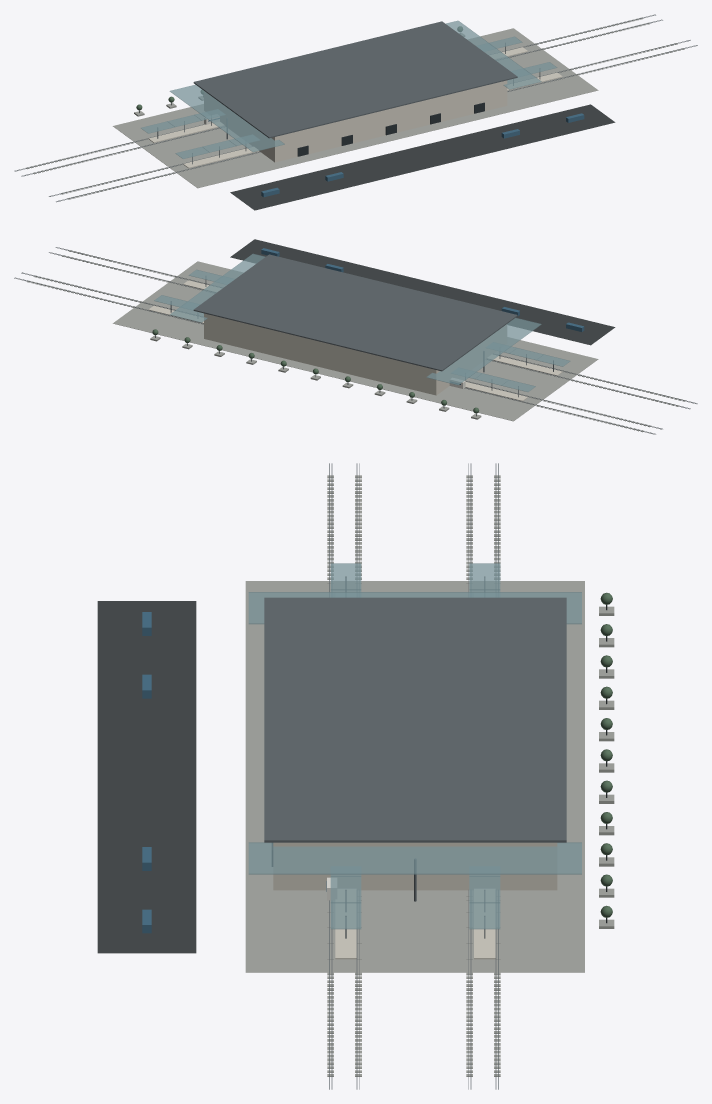
The picture shows the model from 3 angles, top to bottom: view 1: azimuth 30°, elevation 25°; view 2: azimuth 150°, elevation 25°; view 3: azimuth 270°, elevation 25°; orthographic projection. The views are drawn at different scales.
Parts seen in each view (by area): view 1: Grand Central High-Speed Rail: steel, Grand Central High-Speed Rail: concrete, Grand Central High-Speed Rail: road, Grand Central High-Speed Rail: stone, Grand Central High-Speed Rail: glass, Grand Central High-Speed Rail: dark, Grand Central High-Speed Rail: blue; view 2: Grand Central High-Speed Rail: steel, Grand Central High-Speed Rail: concrete, Grand Central High-Speed Rail: stone, Grand Central High-Speed Rail: road, Grand Central High-Speed Rail: glass, Grand Central High-Speed Rail: blue, Grand Central High-Speed Rail: green; view 3: Grand Central High-Speed Rail: steel, Grand Central High-Speed Rail: concrete, Grand Central High-Speed Rail: road, Grand Central High-Speed Rail: glass, Grand Central High-Speed Rail: stone, Grand Central High-Speed Rail: green, Grand Central High-Speed Rail: blue.
Boxes of the visible parts, left/top/right/bottom form: Grand Central High-Speed Rail: steel: left=14, top=14, right=697, bottom=202; Grand Central High-Speed Rail: concrete: left=26, top=17, right=684, bottom=199; Grand Central High-Speed Rail: road: left=230, top=104, right=615, bottom=210; Grand Central High-Speed Rail: stone: left=148, top=47, right=562, bottom=168; Grand Central High-Speed Rail: glass: left=141, top=20, right=557, bottom=158; Grand Central High-Speed Rail: dark: left=139, top=95, right=484, bottom=156; Grand Central High-Speed Rail: blue: left=208, top=113, right=584, bottom=197; Grand Central High-Speed Rail: steel: left=14, top=247, right=697, bottom=434; Grand Central High-Speed Rail: concrete: left=27, top=250, right=685, bottom=432; Grand Central High-Speed Rail: stone: left=148, top=280, right=562, bottom=401; Grand Central High-Speed Rail: road: left=230, top=239, right=615, bottom=345; Grand Central High-Speed Rail: glass: left=154, top=253, right=570, bottom=391; Grand Central High-Speed Rail: blue: left=261, top=248, right=584, bottom=384; Grand Central High-Speed Rail: green: left=152, top=329, right=479, bottom=413; Grand Central High-Speed Rail: steel: left=264, top=463, right=566, bottom=1089; Grand Central High-Speed Rail: concrete: left=245, top=475, right=614, bottom=1076; Grand Central High-Speed Rail: road: left=97, top=601, right=196, bottom=953; Grand Central High-Speed Rail: glass: left=248, top=563, right=581, bottom=929; Grand Central High-Speed Rail: stone: left=273, top=842, right=557, bottom=959; Grand Central High-Speed Rail: green: left=600, top=592, right=612, bottom=917; Grand Central High-Speed Rail: blue: left=142, top=612, right=326, bottom=933.
Size of the model in its own units: 480 by 20.8 by 168.
